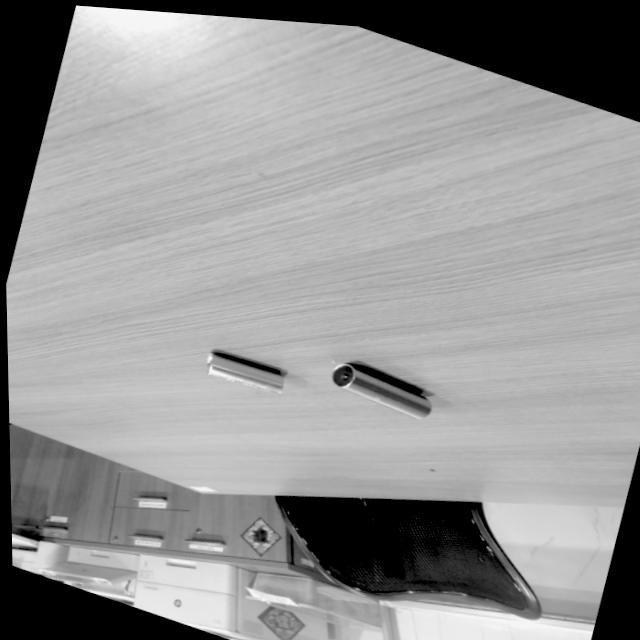Co_Lon: (327, 357, 434, 423)
Co_Nho: (202, 349, 286, 395)
